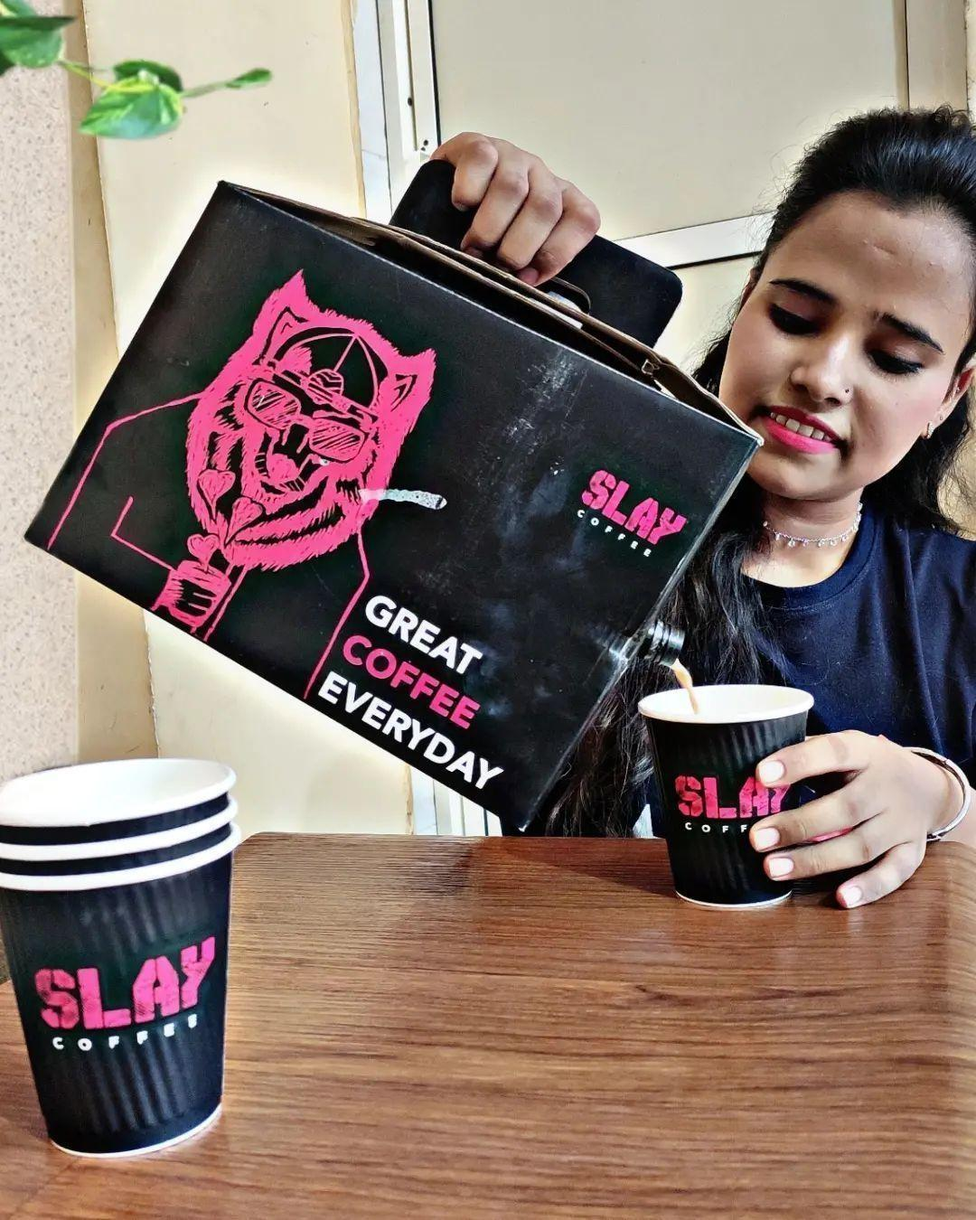cup-disposable: (0, 750, 248, 1159), (633, 680, 816, 916)
